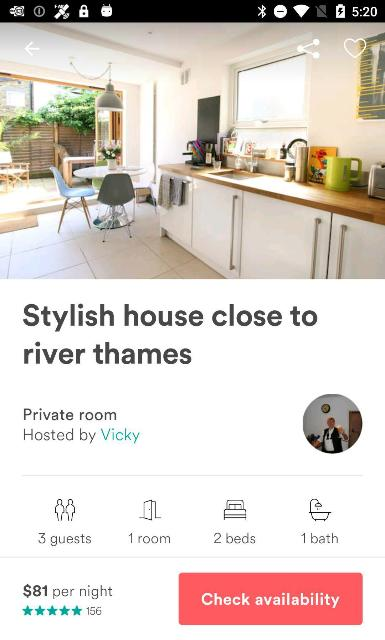Icon: (21, 604, 82, 616), (309, 498, 332, 522), (138, 499, 162, 521), (54, 498, 76, 522), (297, 39, 320, 60), (224, 500, 246, 520), (344, 38, 366, 58), (24, 41, 40, 57)
Image: (0, 23, 384, 279), (302, 392, 362, 453)
Text: (22, 304, 318, 364), (202, 592, 340, 608), (23, 428, 140, 444), (23, 582, 113, 600), (24, 408, 116, 420), (38, 532, 92, 546), (214, 532, 256, 544), (128, 532, 170, 544), (301, 532, 338, 544), (84, 606, 101, 616)
TextButton: (178, 572, 362, 624)
UpperTaskBar: (0, 0, 384, 22)
